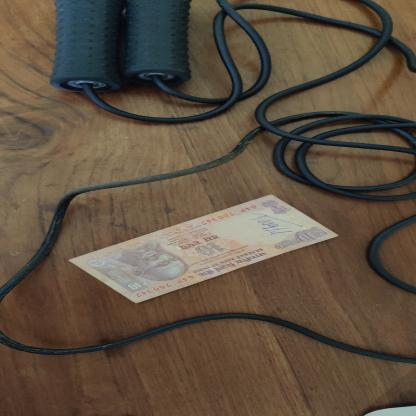Old10Front: (64, 195, 343, 305)
